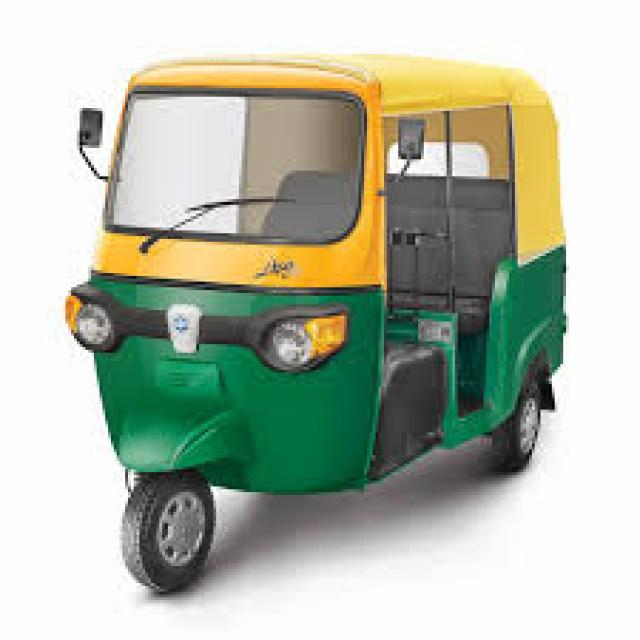tuktuk: (27, 32, 617, 612)
